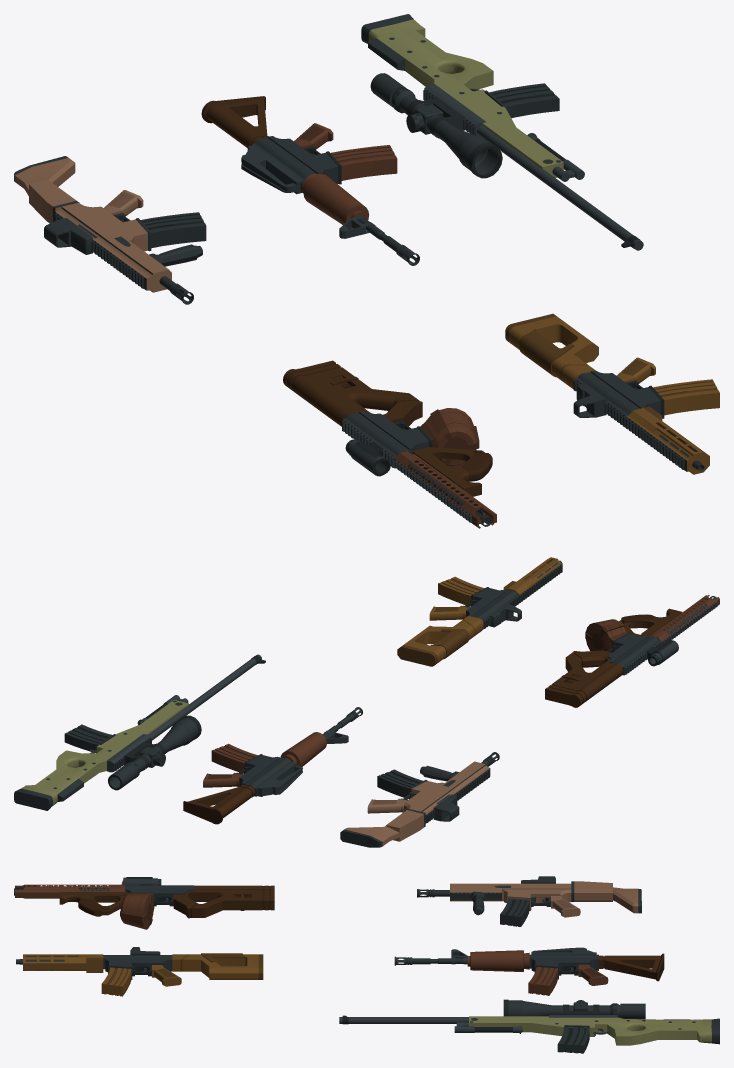
File: update.fbx
3 renders of one model, top to bottom at view 1: azimuth 30°, elevation 25°; view 2: azimuth 150°, elevation 25°; view 3: azimuth 270°, elevation 25°, orthographic. The views are drawn at different scales.
Parts seen in each view (by area): view 1: SNIPER1, MG3, MG4, MG1, MG5; view 2: SNIPER1, MG3, MG4, MG1, MG5; view 3: SNIPER1, MG3, MG4, MG5, MG1.
Part boxes in pixels (x1,y1,x2,y2): SNIPER1: (361,14,643,250); MG3: (283,360,496,528); MG4: (505,313,719,474); MG1: (14,156,206,304); MG5: (201,96,419,265); SNIPER1: (14,654,265,810); MG3: (545,595,719,707); MG4: (397,557,562,666); MG1: (340,752,499,847); MG5: (183,707,362,824); SNIPER1: (339,999,719,1053); MG3: (14,877,274,929); MG4: (16,947,263,996); MG5: (394,947,664,995); MG1: (417,876,641,926).
Size of the model in its own units: 674 by 61.02 by 1187.
